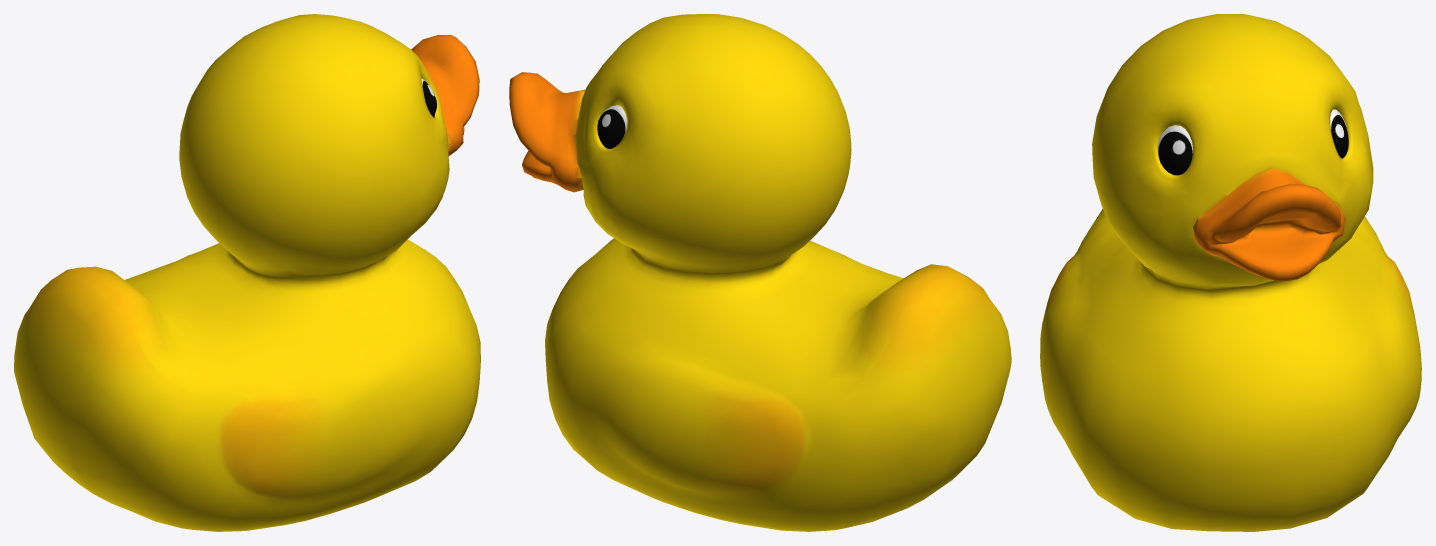
File: duck.glb
3 renders of one model, left to right at view 1: azimuth 30°, elevation 25°; view 2: azimuth 150°, elevation 25°; view 3: azimuth 270°, elevation 25°, orthographic. The views are drawn at different scales.
Parts seen in each view (by area): view 1: LOD3spShape; view 2: LOD3spShape; view 3: LOD3spShape.
Boxes of the visible parts, x1=… form: LOD3spShape: x1=14, y1=14, x2=480, y2=531; LOD3spShape: x1=509, y1=14, x2=1011, y2=531; LOD3spShape: x1=1040, y1=14, x2=1421, y2=531.
Size of the model in its own units: 1.65 by 1.54 by 1.15.
1 material, 1 textured.
